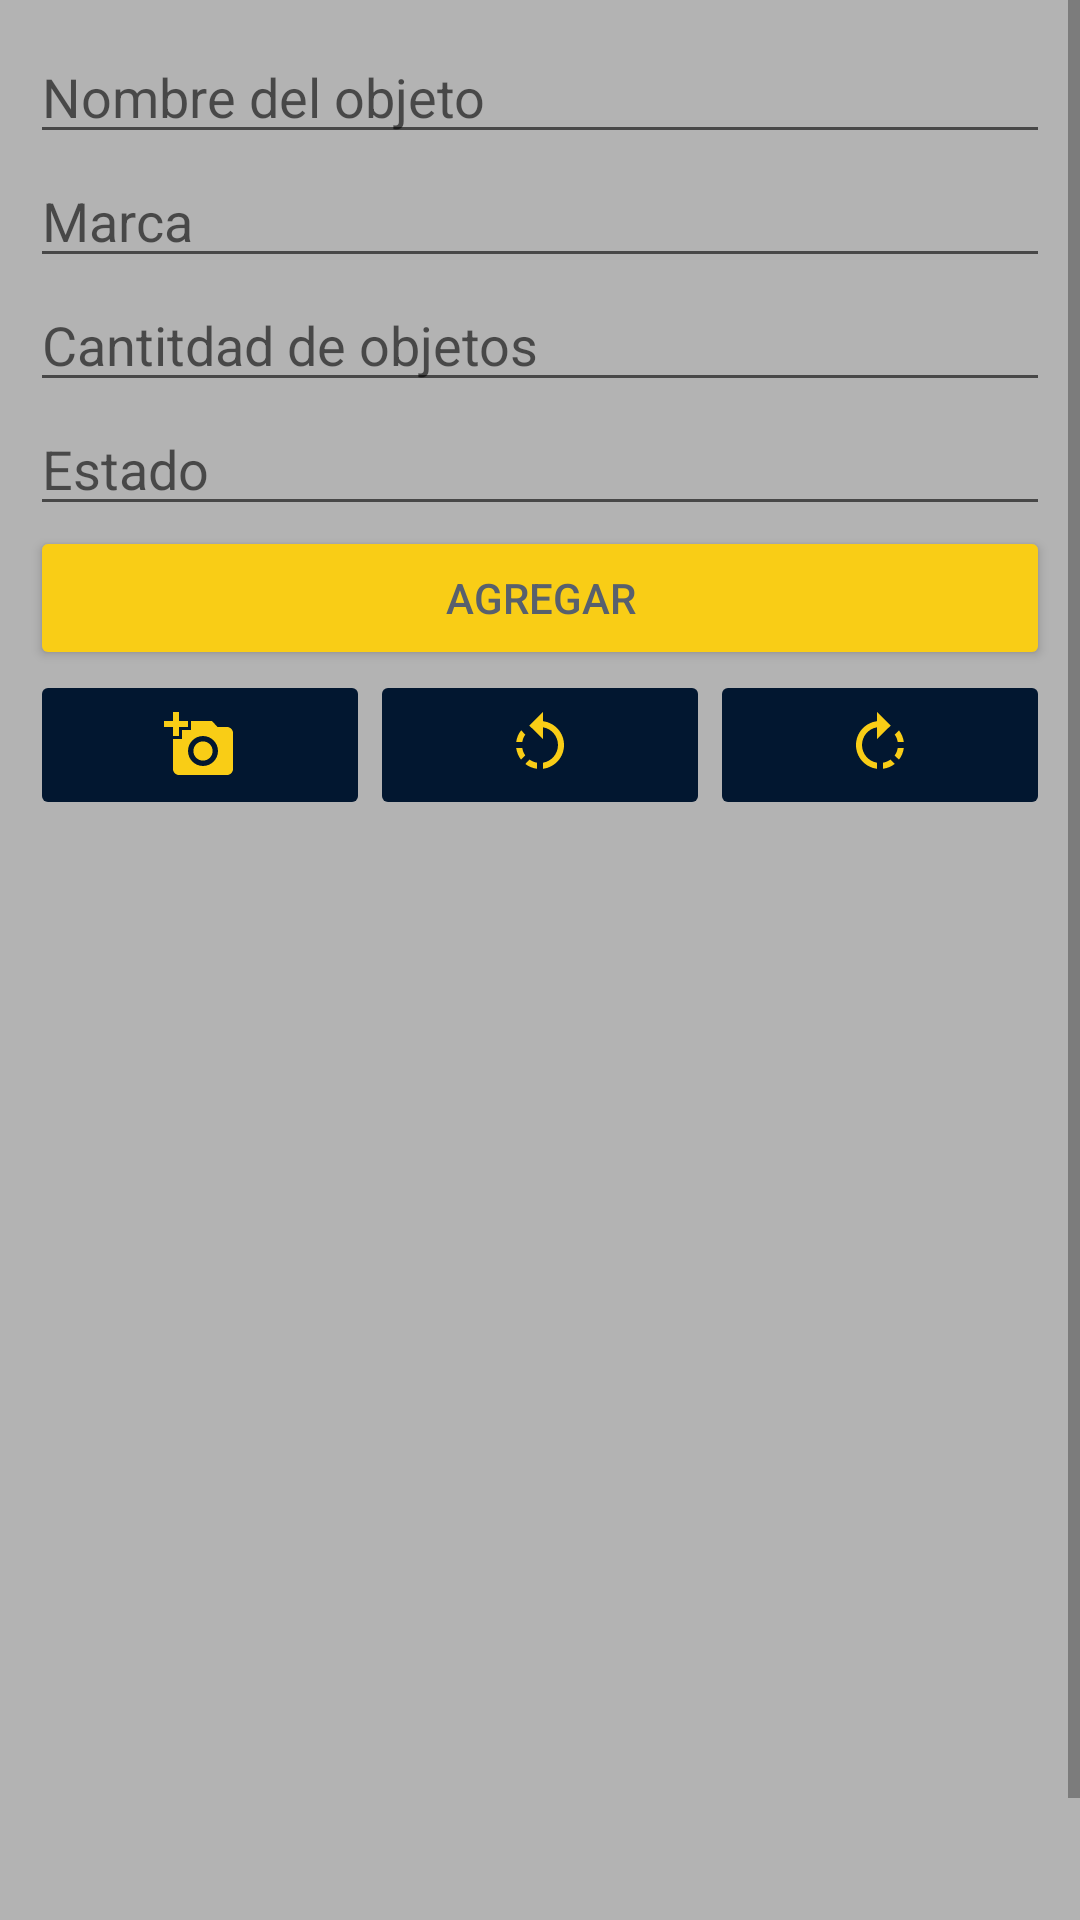

Locate icon controls on the screen. Image size 1080x1920, boxes as (x1, y1, x2, y2).
photo: (42, 688, 358, 802)
rotate: (382, 688, 698, 802), (722, 688, 1038, 802)
